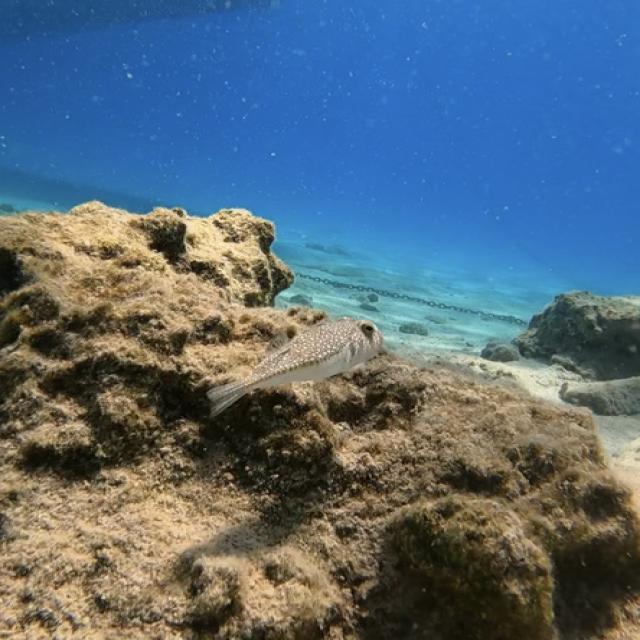Balik: (208, 318, 383, 415)
